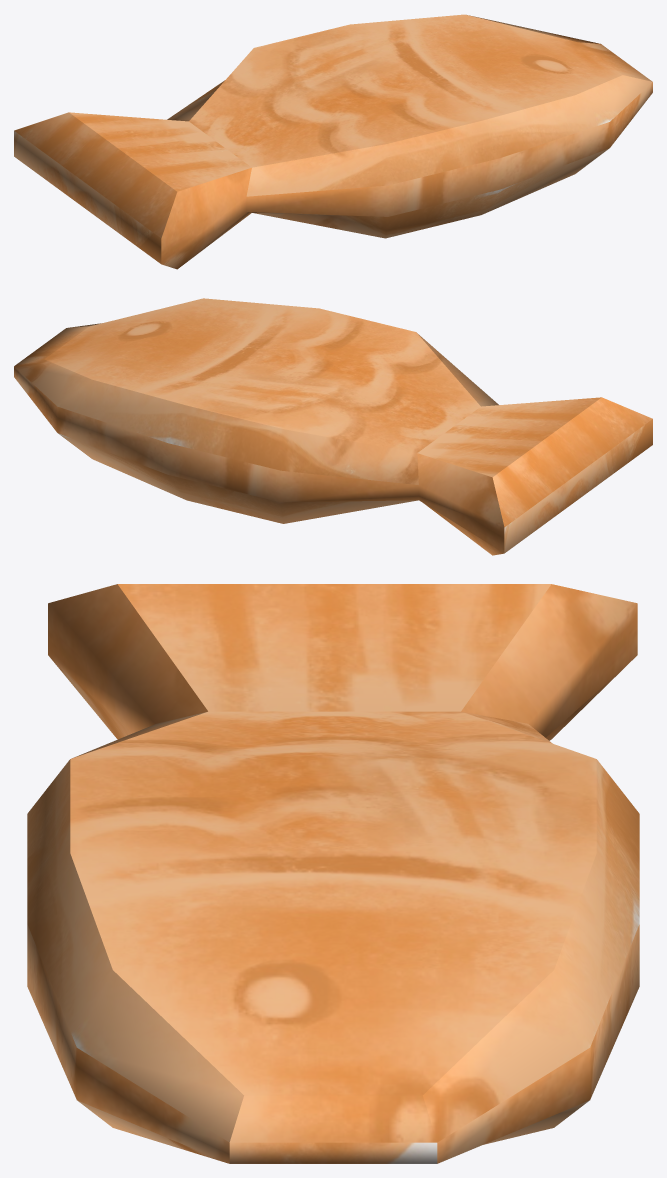
The model's file is fishcake.fbx.
The picture shows the model from 3 angles, top to bottom: view 1: azimuth 30°, elevation 25°; view 2: azimuth 150°, elevation 25°; view 3: azimuth 270°, elevation 25°; orthographic projection. The views are drawn at different scales.
Parts seen in each view (by area): view 1: Box001; view 2: Box001; view 3: Box001.
Boxes of the visible parts, <box> form: Box001: <box>14,14,652,269</box>; Box001: <box>14,298,652,555</box>; Box001: <box>27,584,639,1163</box>.
Size of the model in its own units: 106 by 17.78 by 52.39.
Materials: 1 (1 with a texture image).
